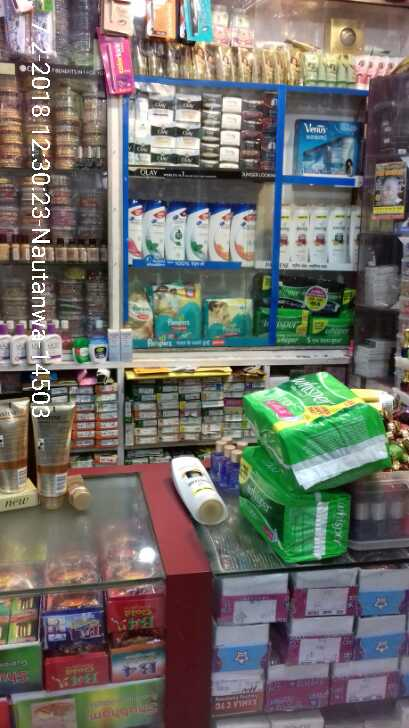venus: (292, 120, 356, 177)
